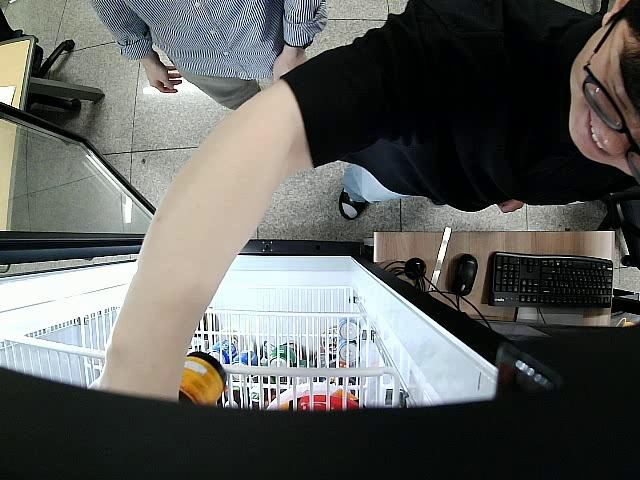00_hand: (143, 54, 183, 94)
